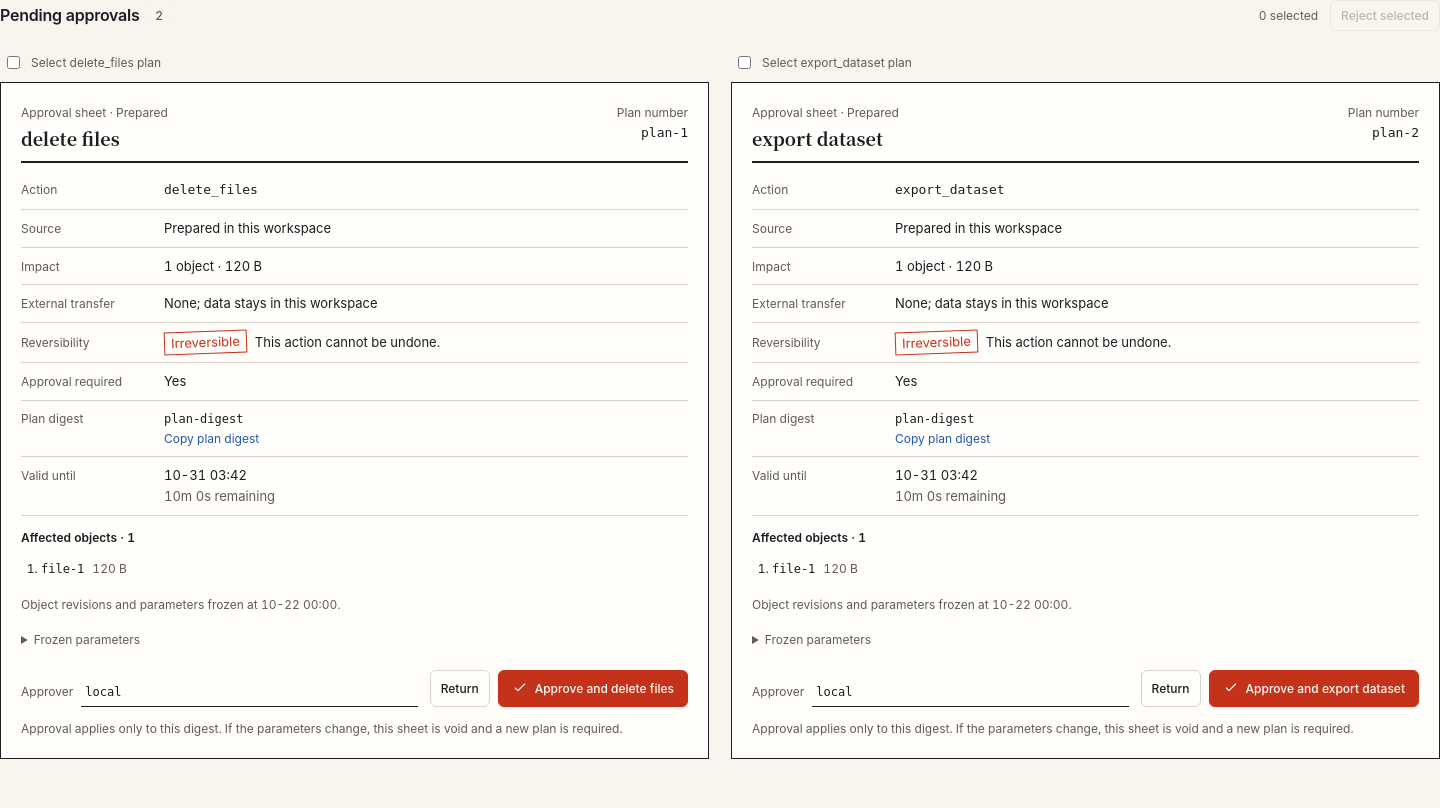
keeps failed rejections selected and reports partial batch success
The image size is (1440, 808).
Click the checkbox labelled "Select delete_files plan" at [14, 63], box [7,56,20,69]
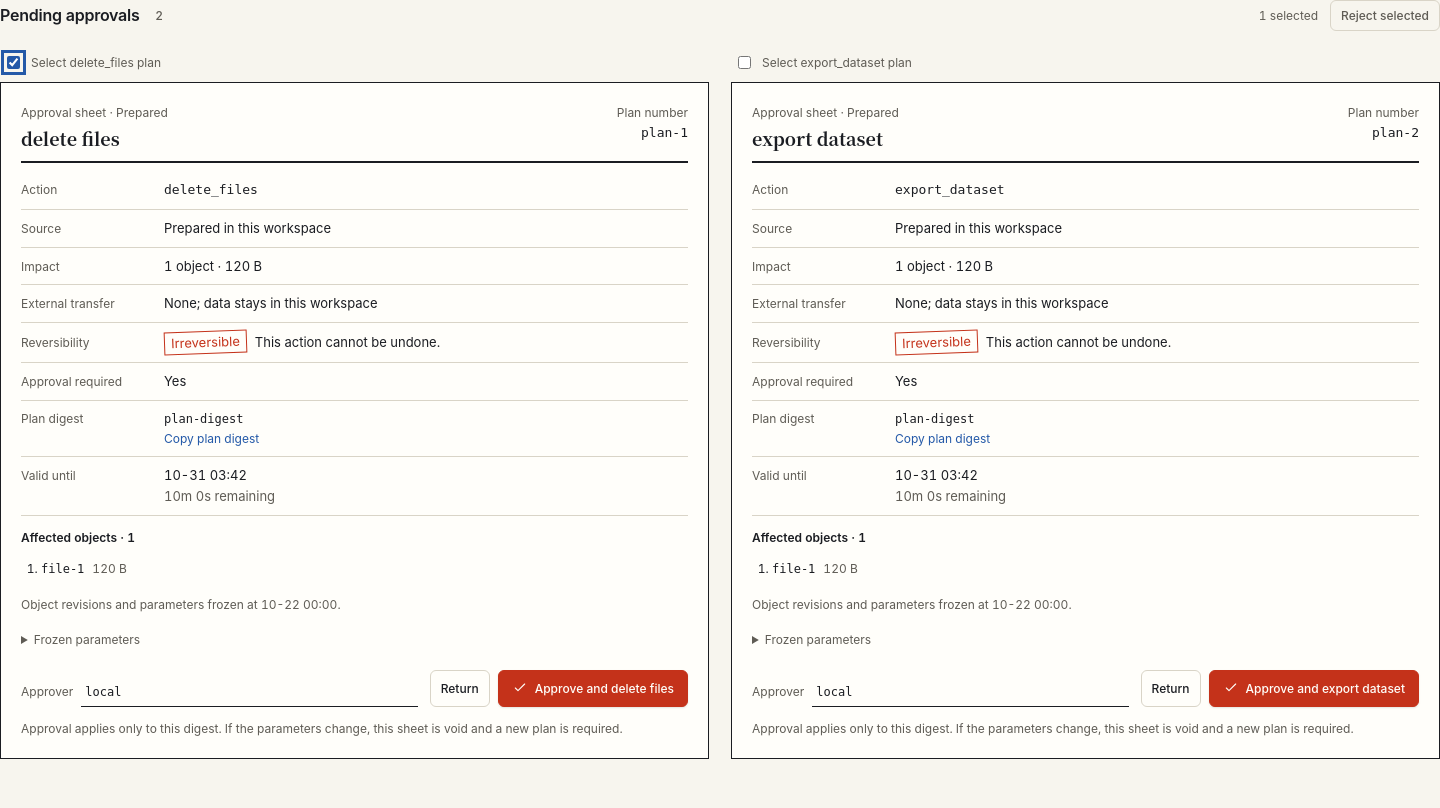
Click the checkbox labelled "Select export_dataset plan" at [744, 63], box [738,56,751,69]
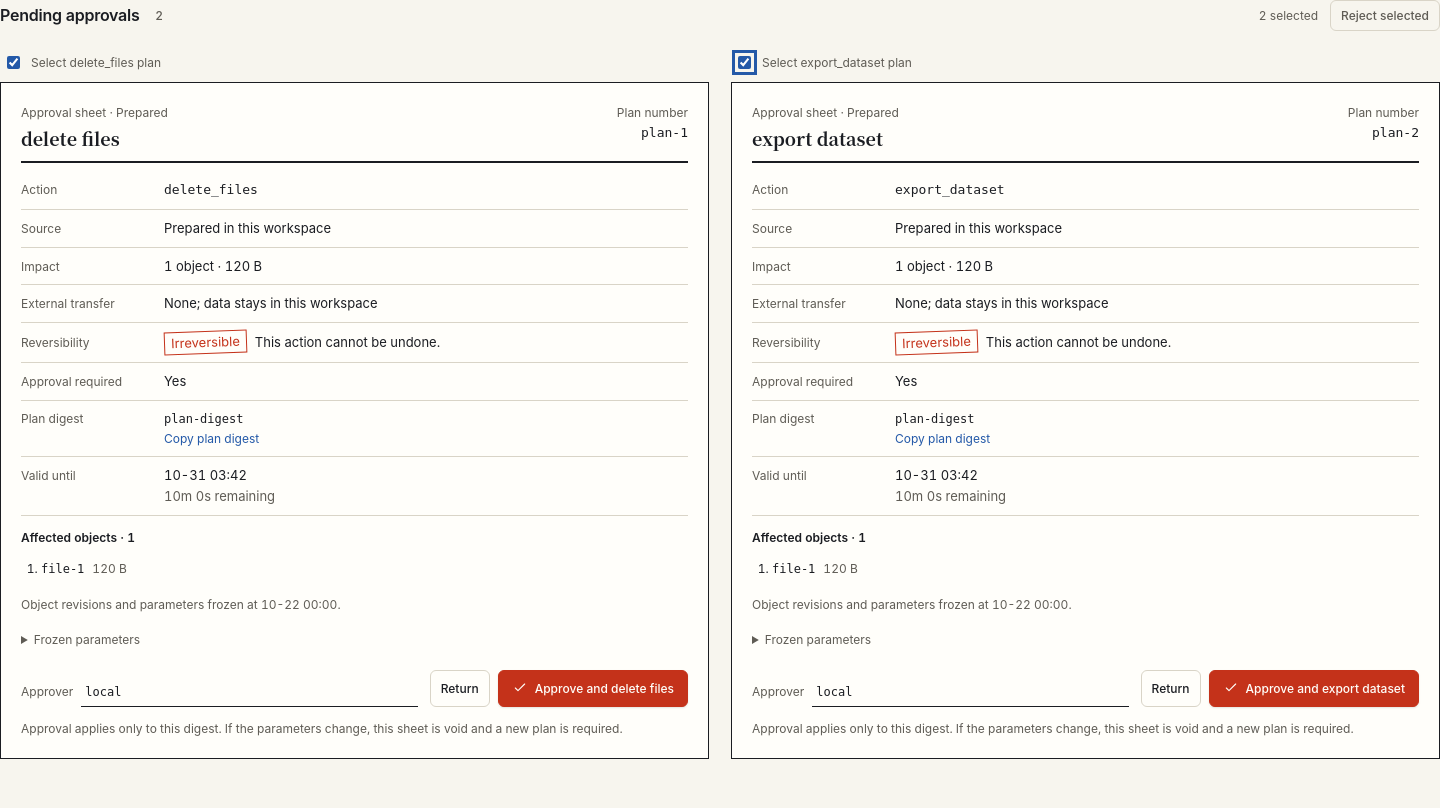
Click the button "Reject selected" at [1385, 16], box [1330,0,1439,31]
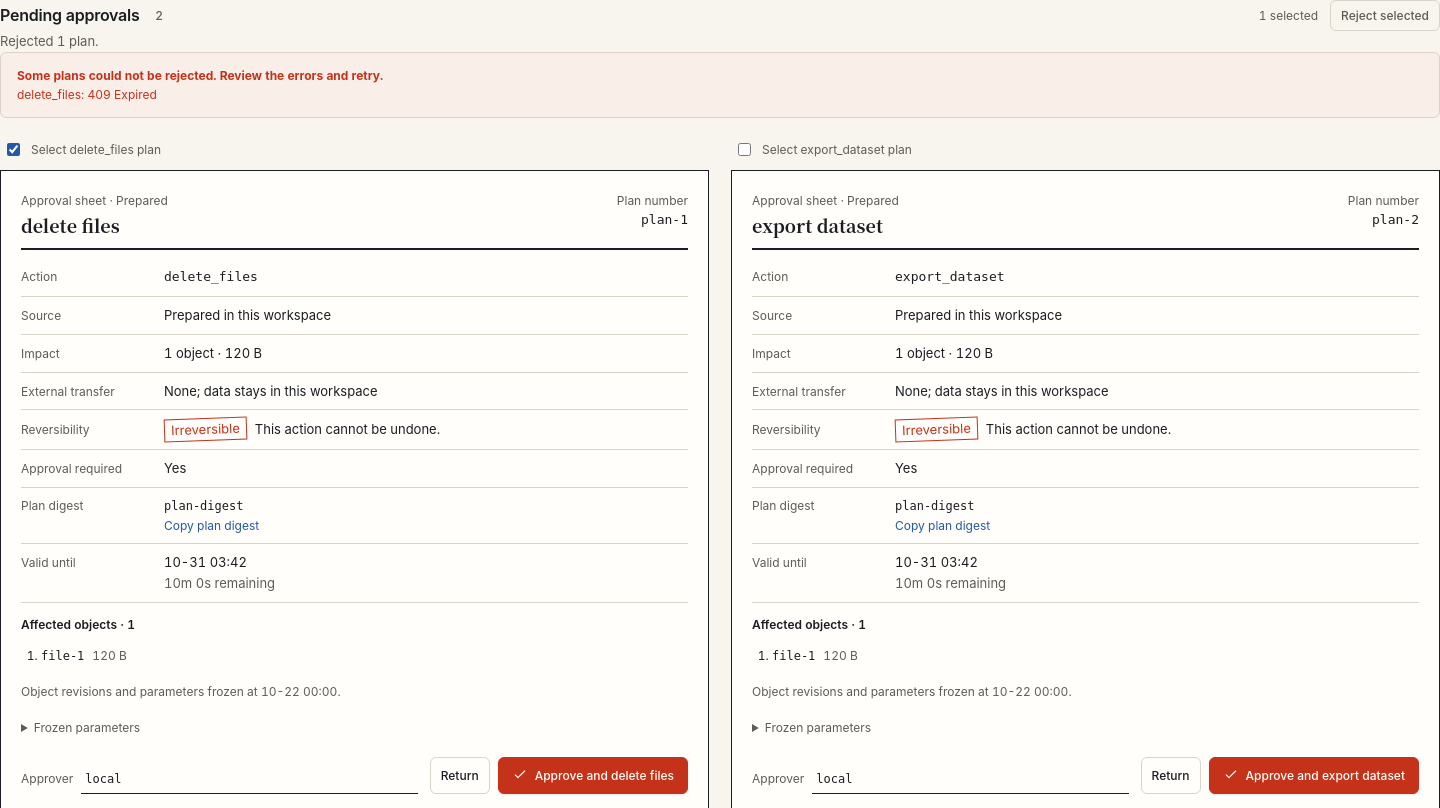
Expected: the checkbox labelled "Select delete_files plan" is checked, [7,144,20,156]
Expected: the checkbox labelled "Select export_dataset plan" is not checked, [738,144,751,156]
Expected: the 2nd message shows "409 Expired", [17,87,157,102]
